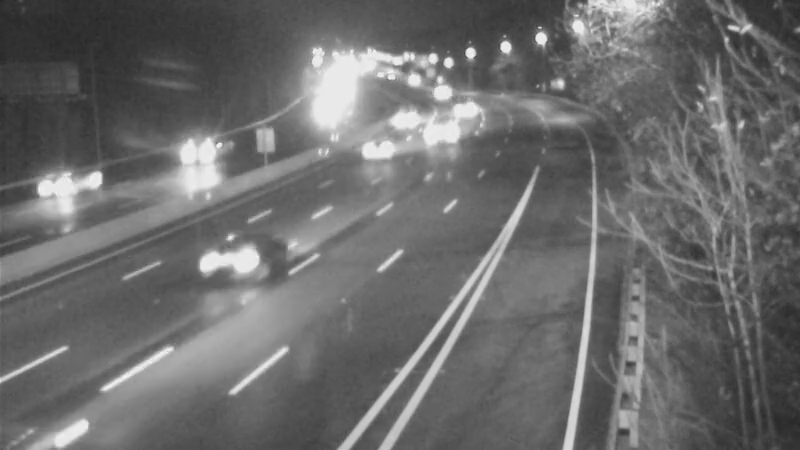vehicle: (1, 360, 103, 450), (200, 214, 280, 294), (25, 147, 105, 227), (434, 85, 484, 135), (382, 89, 432, 139), (424, 108, 474, 158), (364, 116, 414, 166), (185, 122, 235, 172)
